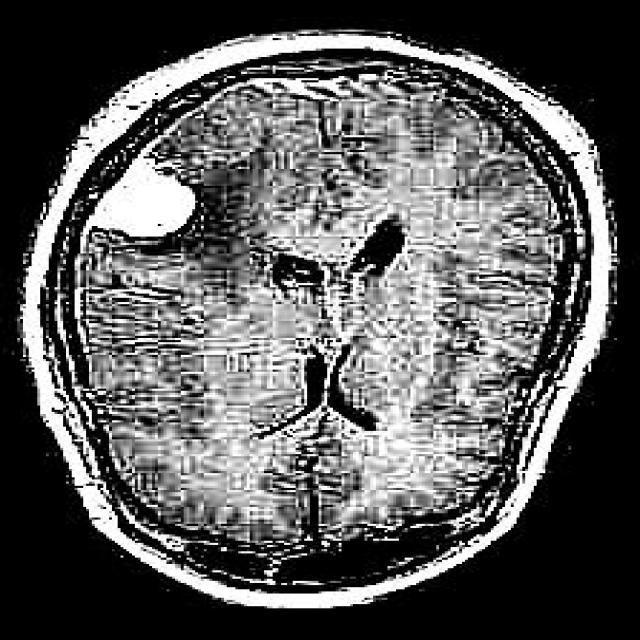tumor: (89, 161, 198, 241)
